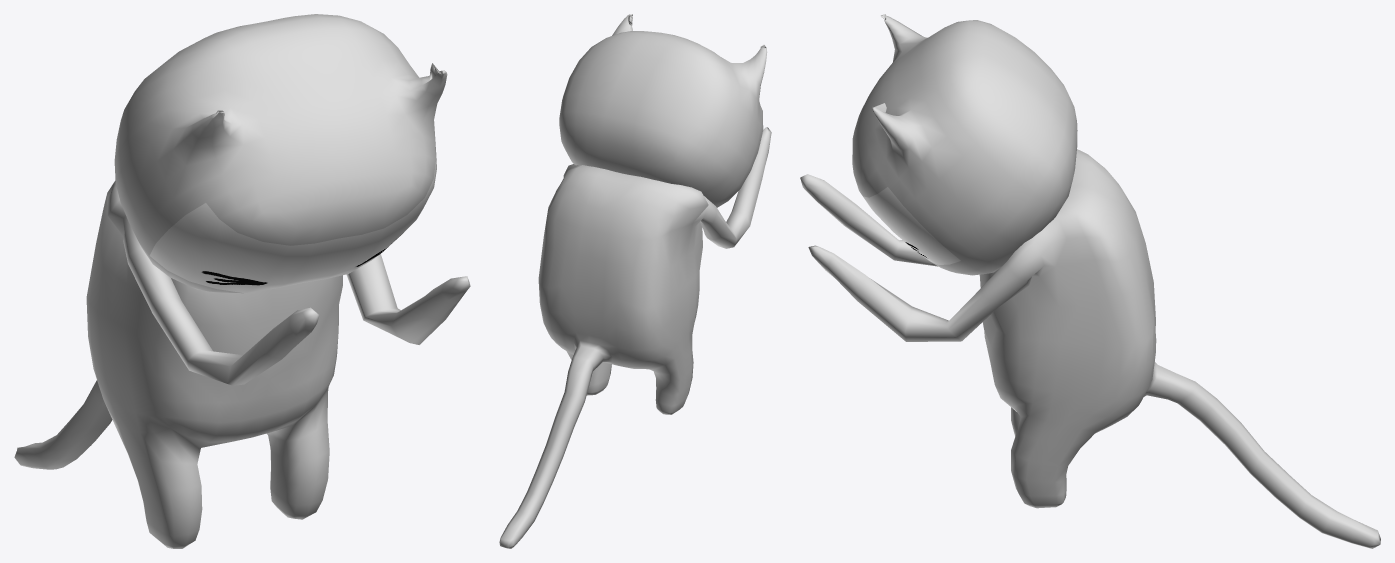
Rendered from minotaur@crying.obj.
3 renders of one model, left to right at view 1: azimuth 30°, elevation 25°; view 2: azimuth 150°, elevation 25°; view 3: azimuth 270°, elevation 25°, orthographic. The views are drawn at different scales.
Visible parts, largest first — view 1: minotaur:minotaur minotaur:pCube2, minotaur:pCube1 minotaur:minotaur; view 2: minotaur:pCube1 minotaur:minotaur, minotaur:minotaur minotaur:pCube2; view 3: minotaur:pCube1 minotaur:minotaur, minotaur:minotaur minotaur:pCube2.
Part boxes in pixels (left/top/right/bottom): minotaur:minotaur minotaur:pCube2: left=114, top=14, right=447, bottom=293; minotaur:pCube1 minotaur:minotaur: left=14, top=181, right=470, bottom=548; minotaur:pCube1 minotaur:minotaur: left=499, top=127, right=771, bottom=548; minotaur:minotaur minotaur:pCube2: left=559, top=14, right=767, bottom=207; minotaur:pCube1 minotaur:minotaur: left=800, top=149, right=1380, bottom=548; minotaur:minotaur minotaur:pCube2: left=852, top=14, right=1077, bottom=275.
Size of the model in its own units: 3.9 by 8.34 by 8.63.
3 materials, 1 textured.
